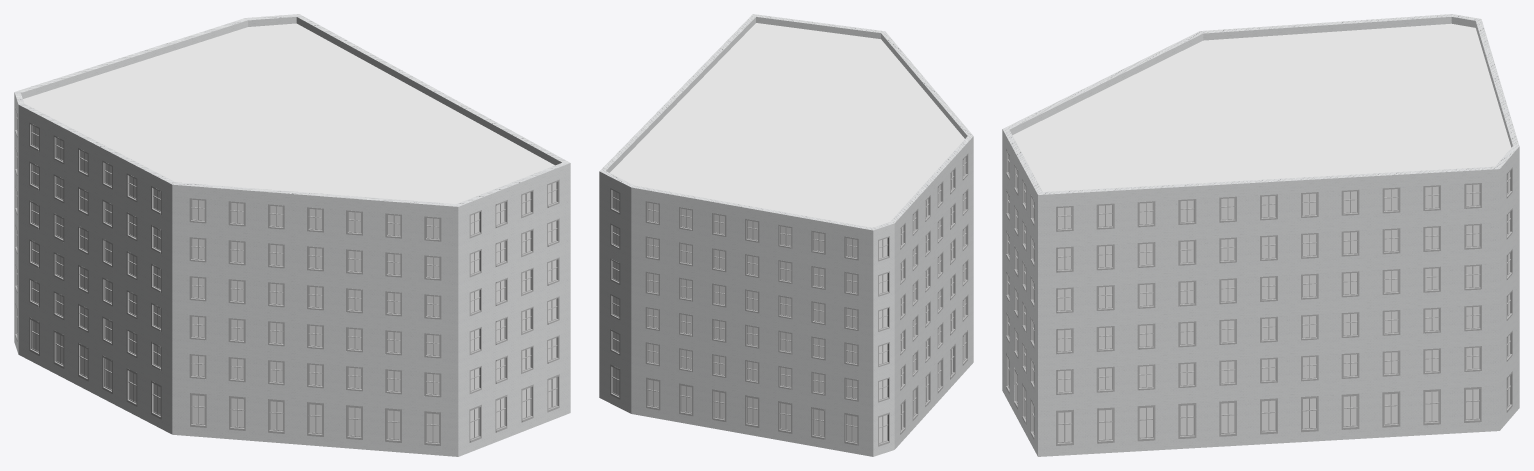
Rendered from clohbyo7003cl4p02vs82aktk_0.glb.
3 renders of one model, left to right at view 1: azimuth 30°, elevation 25°; view 2: azimuth 150°, elevation 25°; view 3: azimuth 270°, elevation 25°, orthographic. The views are drawn at different scales.
Visible parts, largest first — view 1: mesh_Brick, mesh_CityEnginePBRShader, mesh_Rim, mesh_Glass; view 2: mesh_Brick, mesh_CityEnginePBRShader, mesh_Rim, mesh_Glass; view 3: mesh_Brick, mesh_CityEnginePBRShader, mesh_Rim, mesh_Glass.
Part boxes in pixels (bbox=[...]): mesh_Brick: bbox=[14, 14, 570, 456]; mesh_CityEnginePBRShader: bbox=[23, 23, 554, 203]; mesh_Rim: bbox=[15, 108, 559, 445]; mesh_Glass: bbox=[32, 125, 556, 442]; mesh_Brick: bbox=[599, 14, 973, 456]; mesh_CityEnginePBRShader: bbox=[610, 23, 964, 227]; mesh_Rim: bbox=[610, 153, 968, 446]; mesh_Glass: bbox=[613, 157, 965, 442]; mesh_Brick: bbox=[1002, 14, 1519, 456]; mesh_CityEnginePBRShader: bbox=[1012, 23, 1511, 191]; mesh_Rim: bbox=[1006, 149, 1512, 445]; mesh_Glass: bbox=[1008, 155, 1509, 441].
Size of the model in its own units: 33.43 by 22.55 by 40.34.
Materials: 4 (1 with a texture image).
